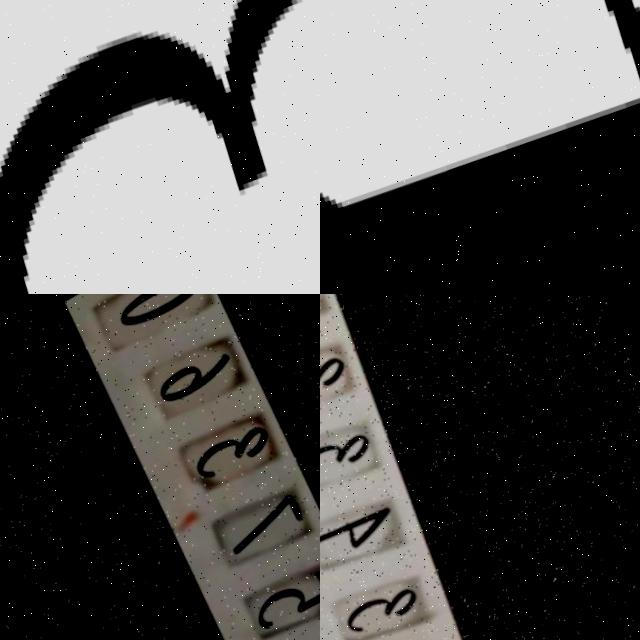0: (96, 294, 231, 356)
3: (0, 0, 320, 294), (176, 393, 302, 504), (326, 544, 463, 640), (320, 388, 413, 518), (320, 312, 387, 441)
4: (320, 463, 440, 597)
5: (237, 539, 320, 640)
6: (138, 319, 265, 430)
7: (209, 466, 320, 576)
R: (320, 0, 640, 294)
